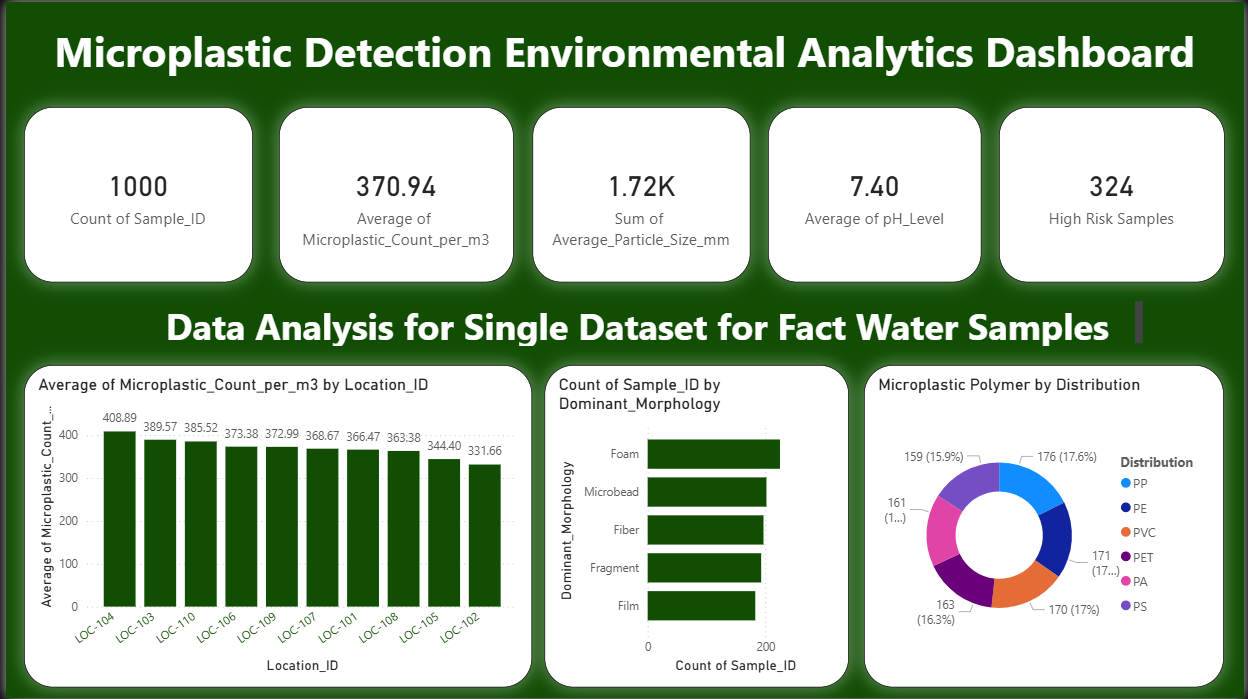

The page's visual inventory and layout, read from the dashboard file:
{"tool":"powerbi","page":{"name":"Data Analysis for single dataset","canvas":[1280,720],"ordinal":0},"visuals":[{"type":"card","fields":{"Values":["Count(cleaned_fact_water_samples.Sample_ID)"]},"box":[18.8,108,236.3,181.6],"z":0},{"type":"card","fields":{"Values":["Avg(cleaned_fact_water_samples.Microplastic_Count_per_m3)"]},"box":[281.7,108,242.6,181.6],"z":1000},{"type":"card","fields":{"Values":["Sum(cleaned_fact_water_samples.Average_Particle_Size_mm)"]},"box":[544.7,108,225.4,181.6],"z":2000},{"type":"card","fields":{"Values":["Avg(cleaned_fact_water_samples.pH_Level)"]},"box":[787.3,108,220.7,181.6],"z":3000},{"type":"card","fields":{"Values":["cleaned_fact_water_samples.High Risk Samples"]},"box":[1026.8,108,233.2,181.6],"z":4000},{"type":"clusteredColumnChart","fields":{"Category":["cleaned_fact_water_samples.Location_ID"],"Y":["Avg(cleaned_fact_water_samples.Microplastic_Count_per_m3)"]},"box":[18.8,375.4,525.6,333.2],"z":5000},{"type":"donutChart","fields":{"Category":["cleaned_fact_water_samples.Dominant_Polymer"],"Y":["CountNonNull(cleaned_fact_water_samples.Sample_ID)"]},"box":[886.9,375.4,372.3,333.2],"z":6000},{"type":"clusteredBarChart","fields":{"Category":["cleaned_fact_water_samples.Dominant_Morphology"],"Y":["CountNonNull(cleaned_fact_water_samples.Sample_ID)"]},"box":[556.8,375.4,314.4,333.2],"z":7000},{"type":"textbox","box":[133,303.7,1047.1,56.3],"z":8000},{"type":"textbox","box":[45.4,15.7,1235,72],"z":9000}]}

Visuals, with their boxes in screenshot pixels (x1, y1, x2, y2), scaled from the page's 1280x720 canvas onto the 1248x699 screenshot:
card - Count(cleaned_fact_water_samples.Sample_ID): box(18, 105, 249, 281)
card - Avg(cleaned_fact_water_samples.Microplastic_Count_per_m3): box(275, 105, 511, 281)
card - Sum(cleaned_fact_water_samples.Average_Particle_Size_mm): box(531, 105, 751, 281)
card - Avg(cleaned_fact_water_samples.pH_Level): box(768, 105, 983, 281)
card - cleaned_fact_water_samples.High Risk Samples: box(1001, 105, 1228, 281)
clusteredColumnChart - cleaned_fact_water_samples.Location_ID x Avg(cleaned_fact_water_samples.Microplastic_Count_per_m3): box(18, 364, 531, 688)
donutChart - cleaned_fact_water_samples.Dominant_Polymer x CountNonNull(cleaned_fact_water_samples.Sample_ID): box(865, 364, 1228, 688)
clusteredBarChart - cleaned_fact_water_samples.Dominant_Morphology x CountNonNull(cleaned_fact_water_samples.Sample_ID): box(543, 364, 849, 688)
textbox: box(130, 295, 1151, 350)
textbox: box(44, 15, 1247, 85)
